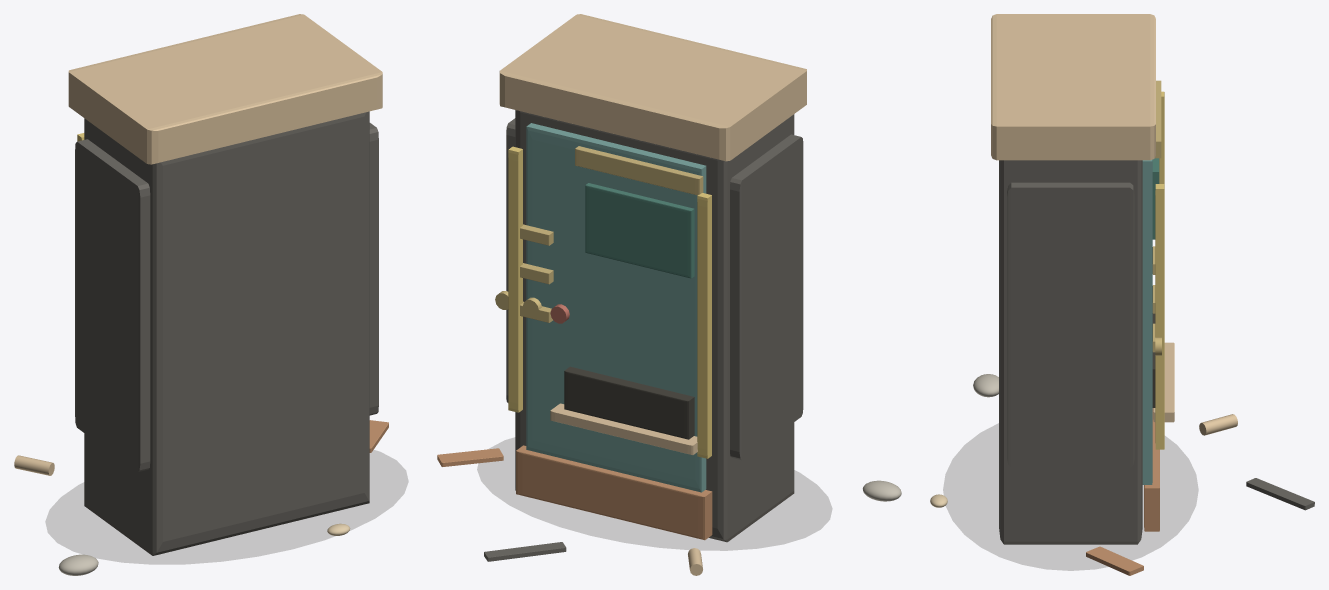
The model's file is trade_machine.glb.
3 views of the same model, side by side, from view 1: azimuth 30°, elevation 25°; view 2: azimuth 150°, elevation 25°; view 3: azimuth 270°, elevation 25° (orthographic). The views are drawn at different scales.
Visible parts, largest first — view 1: vendor_outer_body, vendor_top_cap, vendor_left_side_groove, painted_contact_shadow, vendor_right_side_groove, ground_pebble_detail_4, discarded_bolt_detail_0; view 2: vendor_faded_front_panel, vendor_top_cap, vendor_left_side_groove, vendor_outer_body, painted_contact_shadow, vendor_bottom_kickplate, vendor_glowing_screen, vendor_pickup_slot, vendor_warning_stripe_left, vendor_warning_stripe_right, vendor_supply_label, vendor_slot_lip (+4 smaller); view 3: vendor_right_side_groove, vendor_top_cap, vendor_outer_body, painted_contact_shadow, vendor_faded_front_panel, vendor_warning_stripe_right, vendor_bottom_kickplate, vendor_slot_lip, loose_scrap_flake_2, loose_scrap_flake_1, discarded_bolt_detail_0, ground_pebble_detail_4.
Part boxes in pixels (<box>): vendor_outer_body: <box>84,111,369,555</box>; vendor_top_cap: <box>68,14,382,164</box>; vendor_left_side_groove: <box>75,139,150,471</box>; painted_contact_shadow: <box>45,450,408,564</box>; vendor_right_side_groove: <box>369,123,378,415</box>; ground_pebble_detail_4: <box>58,554,98,575</box>; discarded_bolt_detail_0: <box>14,455,54,475</box>; vendor_faded_front_panel: <box>526,123,706,492</box>; vendor_top_cap: <box>499,14,806,161</box>; vendor_left_side_groove: <box>730,134,803,460</box>; vendor_outer_body: <box>515,110,794,542</box>; painted_contact_shadow: <box>477,437,831,550</box>; vendor_bottom_kickplate: <box>516,445,712,540</box>; vendor_glowing_screen: <box>585,183,694,278</box>; vendor_pickup_slot: <box>564,366,694,439</box>; vendor_warning_stripe_left: <box>697,193,711,458</box>; vendor_warning_stripe_right: <box>508,146,522,412</box>; vendor_supply_label: <box>575,146,703,195</box>; vendor_slot_lip: <box>550,403,697,454</box>; vendor_right_side_groove: <box>1007,182,1134,467</box>; vendor_top_cap: <box>991,14,1155,160</box>; vendor_outer_body: <box>999,160,1142,544</box>; painted_contact_shadow: <box>943,423,1198,570</box>; vendor_faded_front_panel: <box>1142,159,1152,484</box>; vendor_warning_stripe_right: <box>1155,184,1164,449</box>; vendor_bottom_kickplate: <box>1144,408,1159,531</box>; vendor_slot_lip: <box>1153,342,1174,422</box>; loose_scrap_flake_2: <box>1086,546,1143,575</box>; loose_scrap_flake_1: <box>1246,478,1314,510</box>; discarded_bolt_detail_0: <box>1199,414,1237,435</box>; ground_pebble_detail_4: <box>973,374,998,397</box>.
Bounding box in the file's own units: 1.7 × 1.75 × 1.44.
